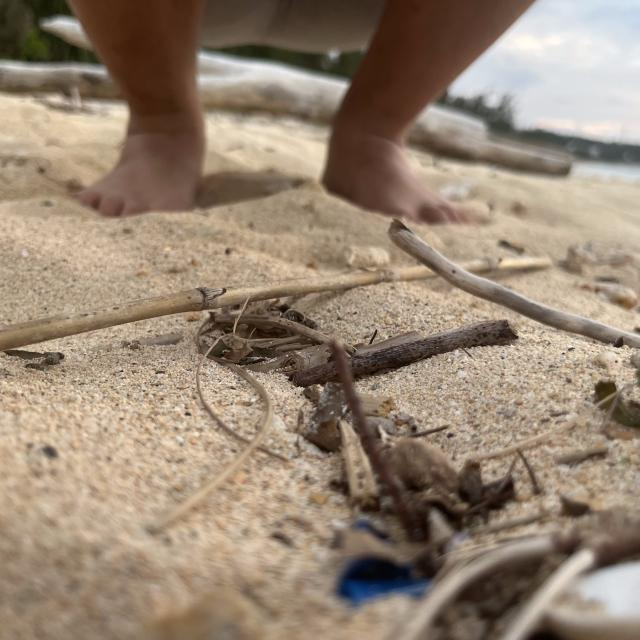feet: (58, 88, 240, 232), (321, 103, 494, 240)
stick: (0, 240, 551, 333), (380, 210, 640, 380)
trash: (336, 547, 428, 615)
